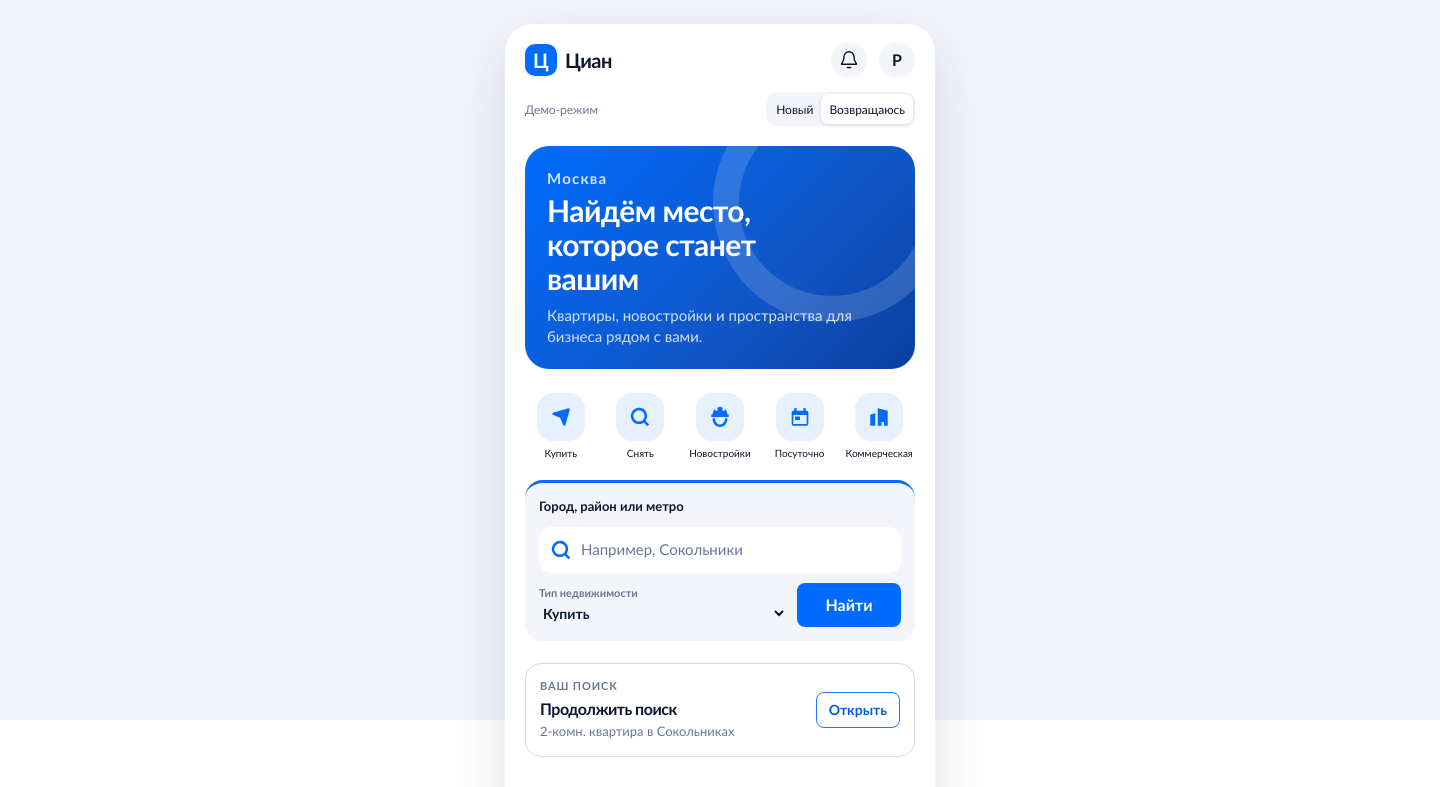
Scenario: mobile home prototype › opens results from a vertical entry point
Click the button "Снять": [640, 426] box [605,393,676,460]
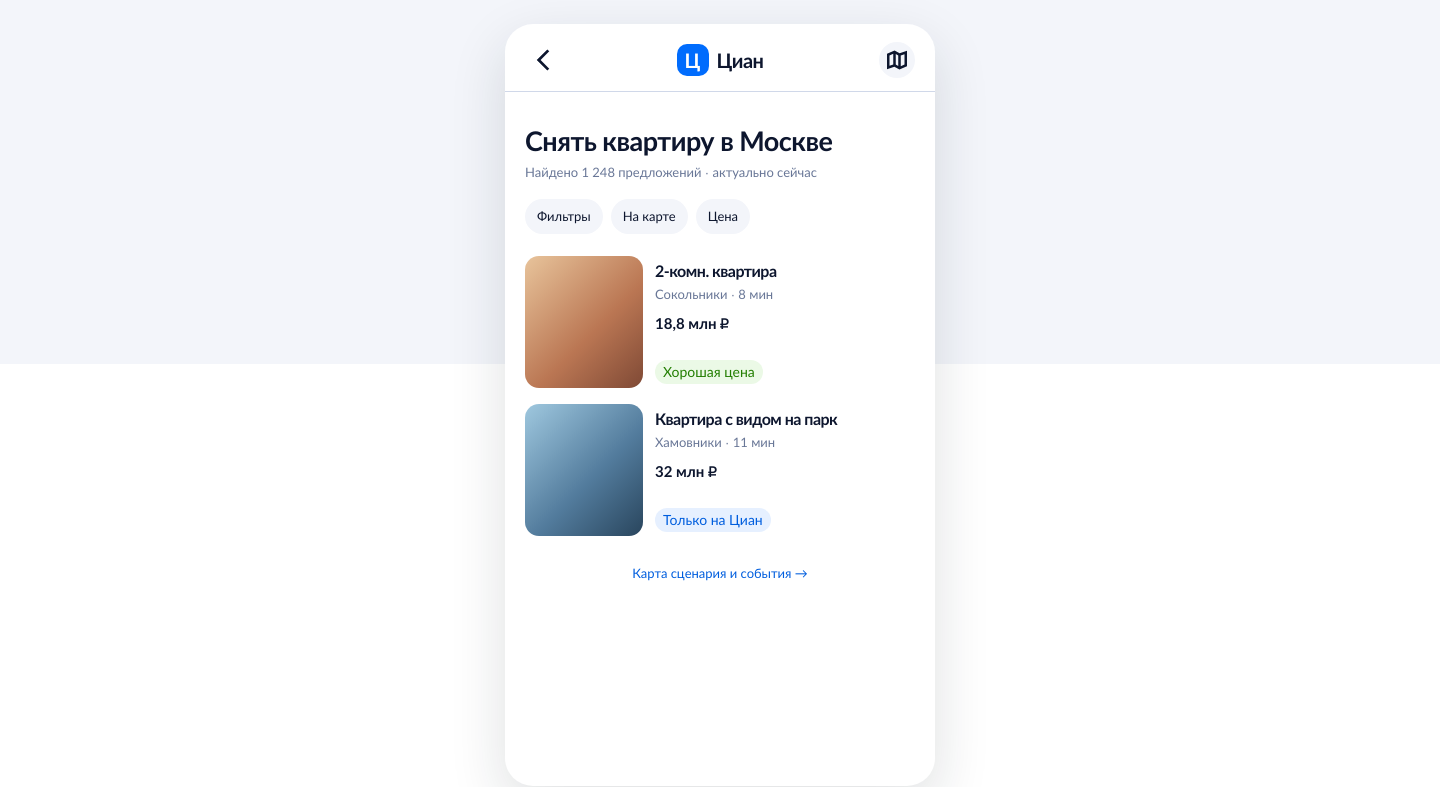
Check: the heading "Снять квартиру в Москве" is shown, box [525,121,832,159]
